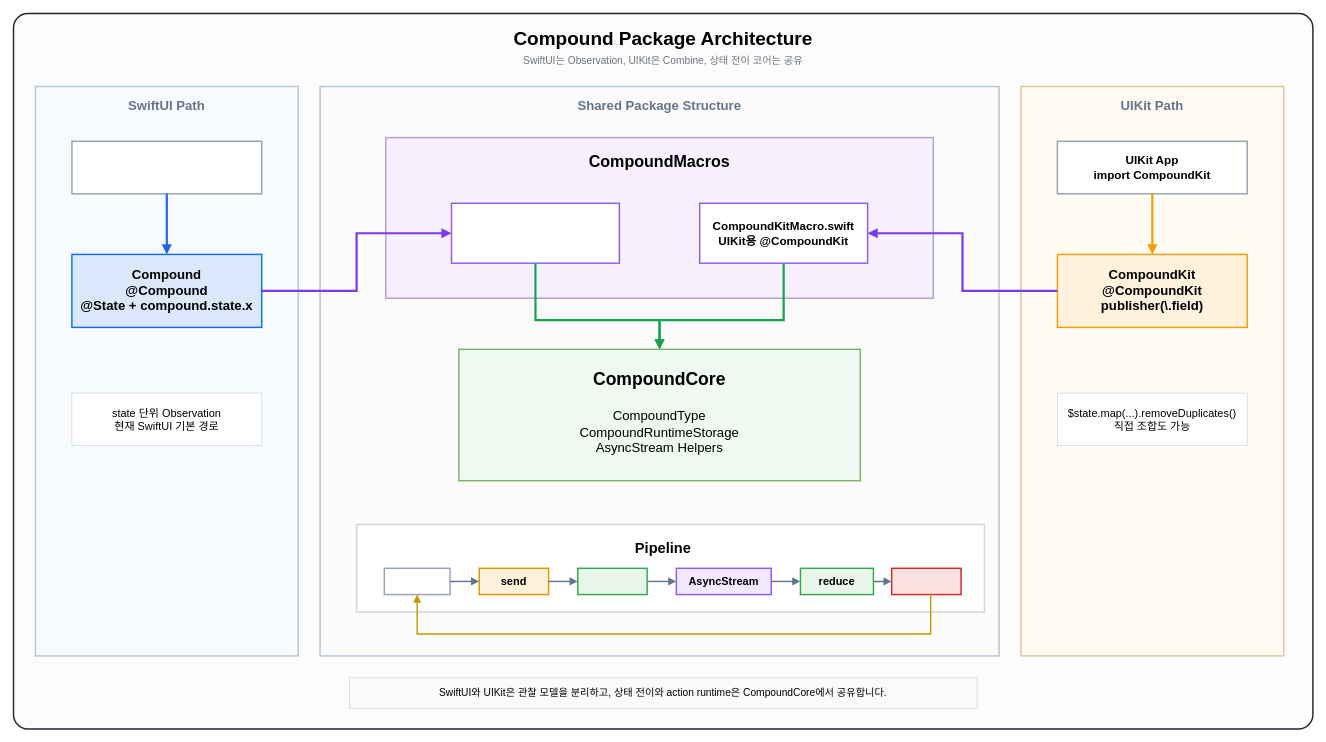
This 1326x742 diagram has some shape labels left out. The centre of each missing label's shape, as x and y in pixels:
"CompoundMacro.swift SwiftUI용 @Compound" goes at [535,233].
"react" goes at [612,581].
"state" goes at [926,581].
"SwiftUI App import Compound" goes at [166,167].
"View" goes at [416,581].
